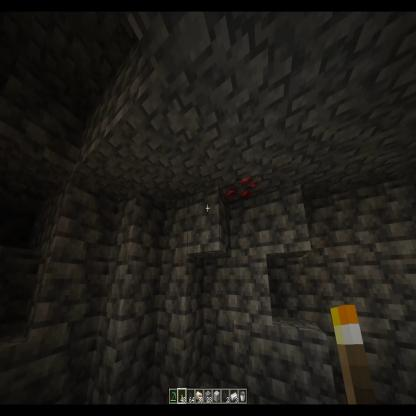redstone ore: (219, 173, 262, 205)
